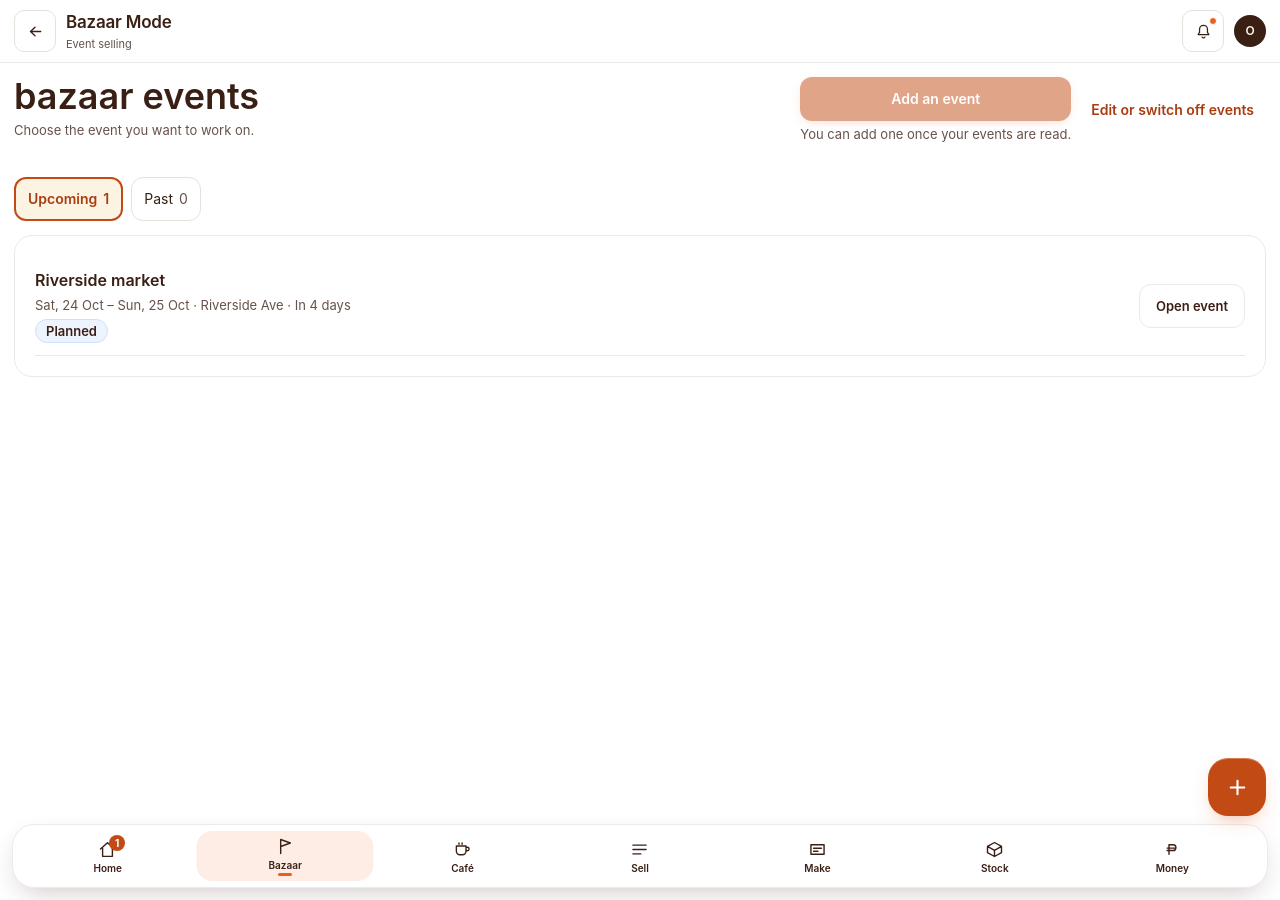
Test: HCB-004 a: the Bazaar plan and a failed or unread catalogue read › C2. offline with the phone-kept catalogue, an owner can still look at her booking without a notice that blocks selling
The image size is (1280, 900).
Click the button "Riverside market" at coordinates (100, 280), box x1=35 y1=256 x2=1245 y2=356
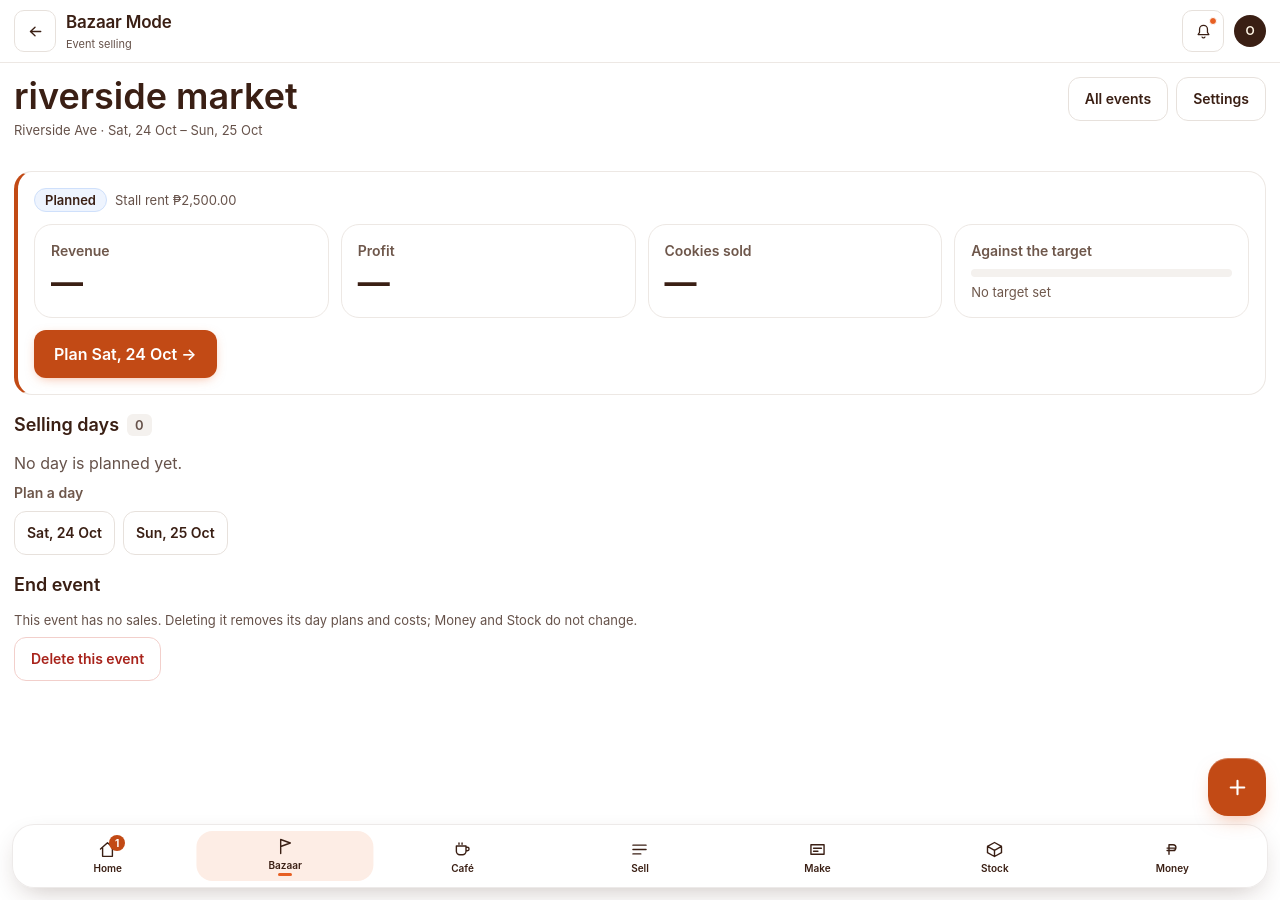
Check: the button "Plan Sat, 24 Oct →" is enabled, box x1=34 y1=330 x2=216 y2=378
